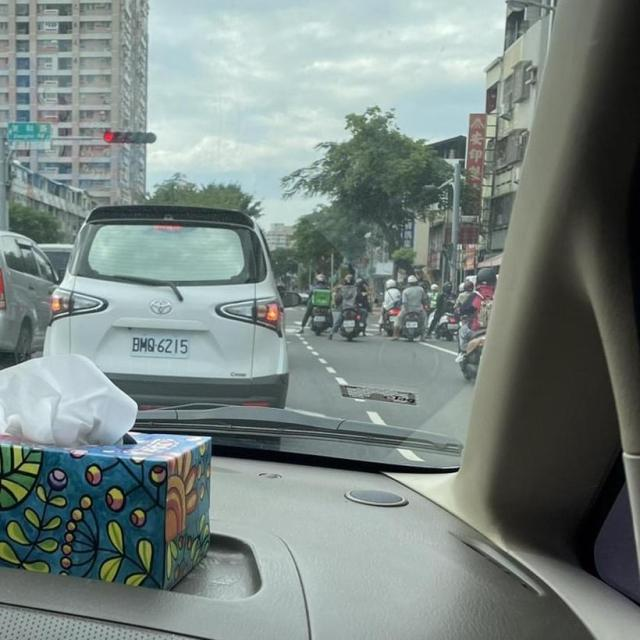W: (128, 326, 192, 361)
